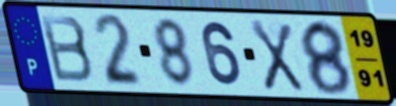2: (92, 11, 145, 89)
6: (200, 19, 244, 89)
8: (297, 17, 356, 98), (151, 15, 197, 89)
B: (37, 13, 96, 85)
X: (247, 17, 306, 94)
